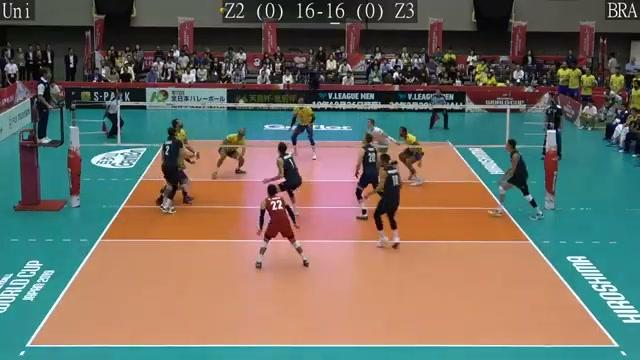ball: (220, 6, 229, 15)
